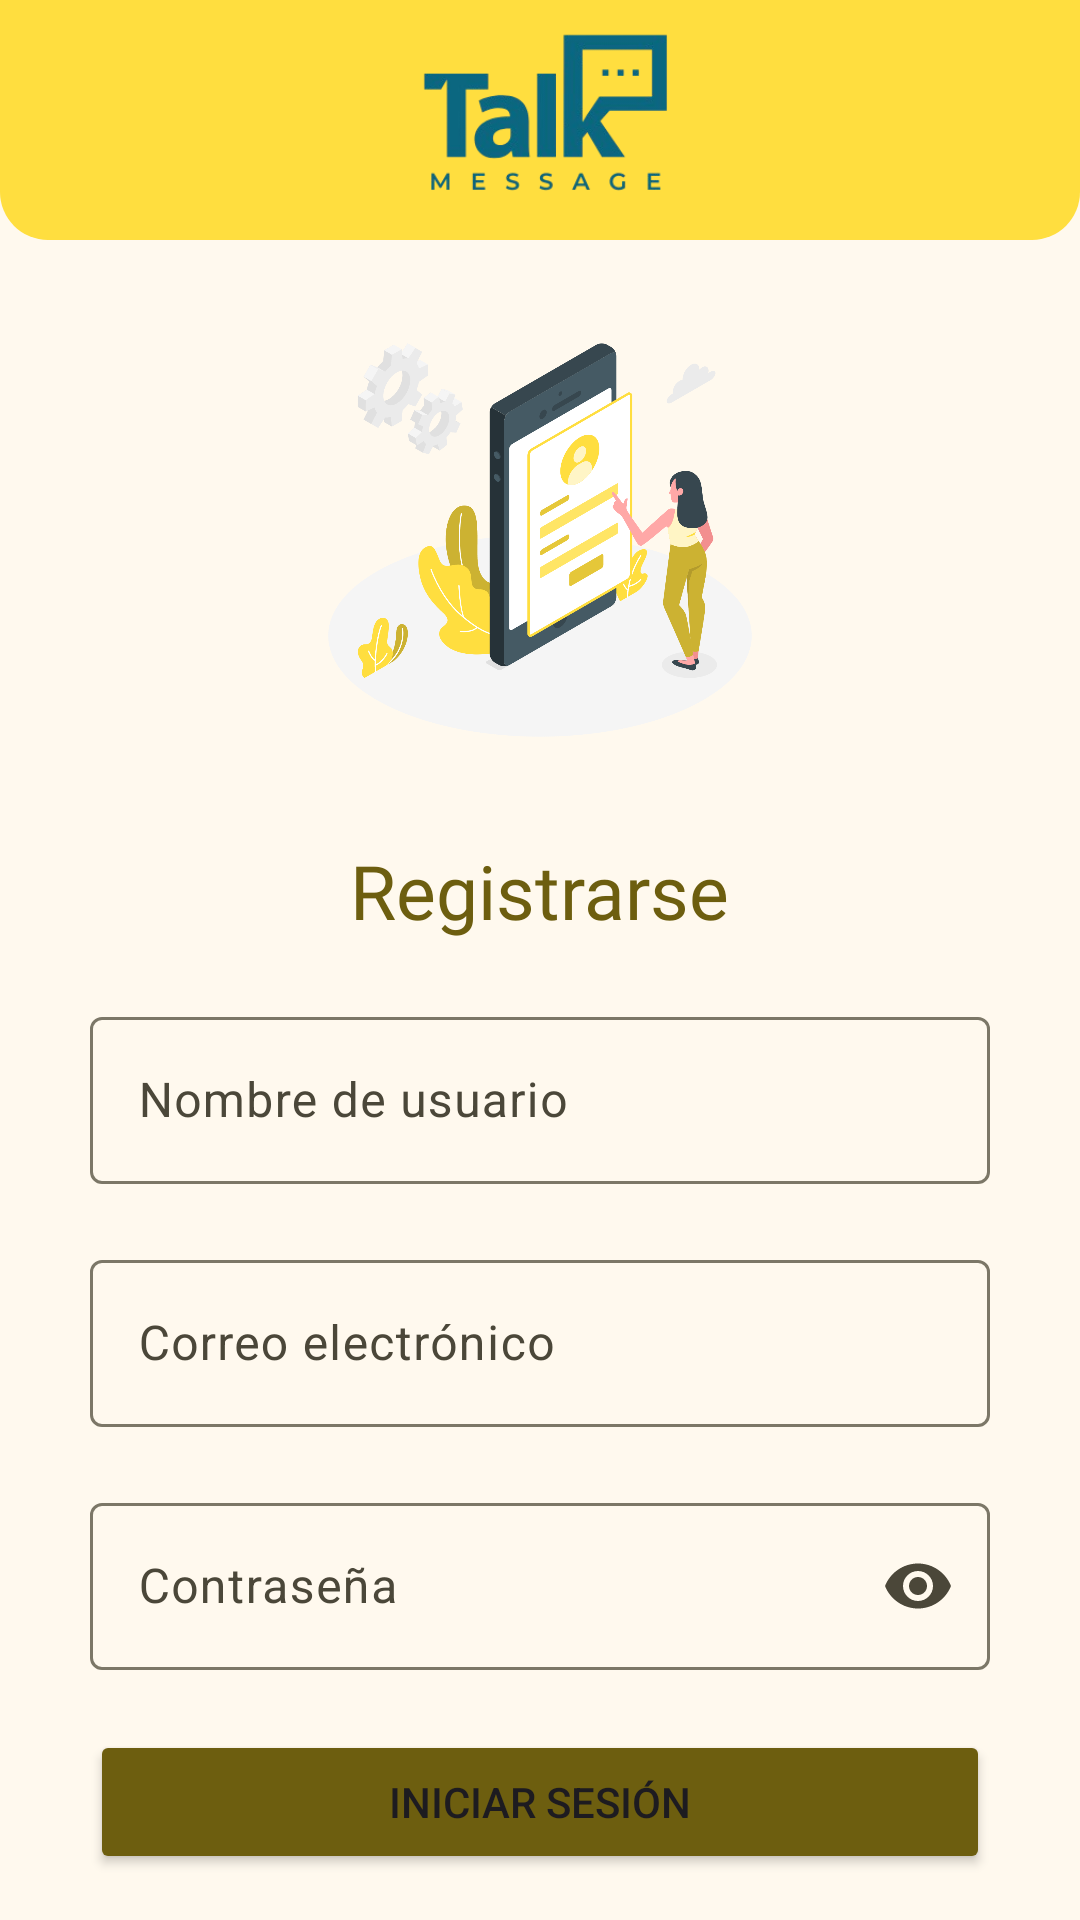

Screen size 1080px×1920px. Icon name, then its box in pixels as detection(x1, y1, x2, y2):
register: detection(358, 343, 713, 678)
